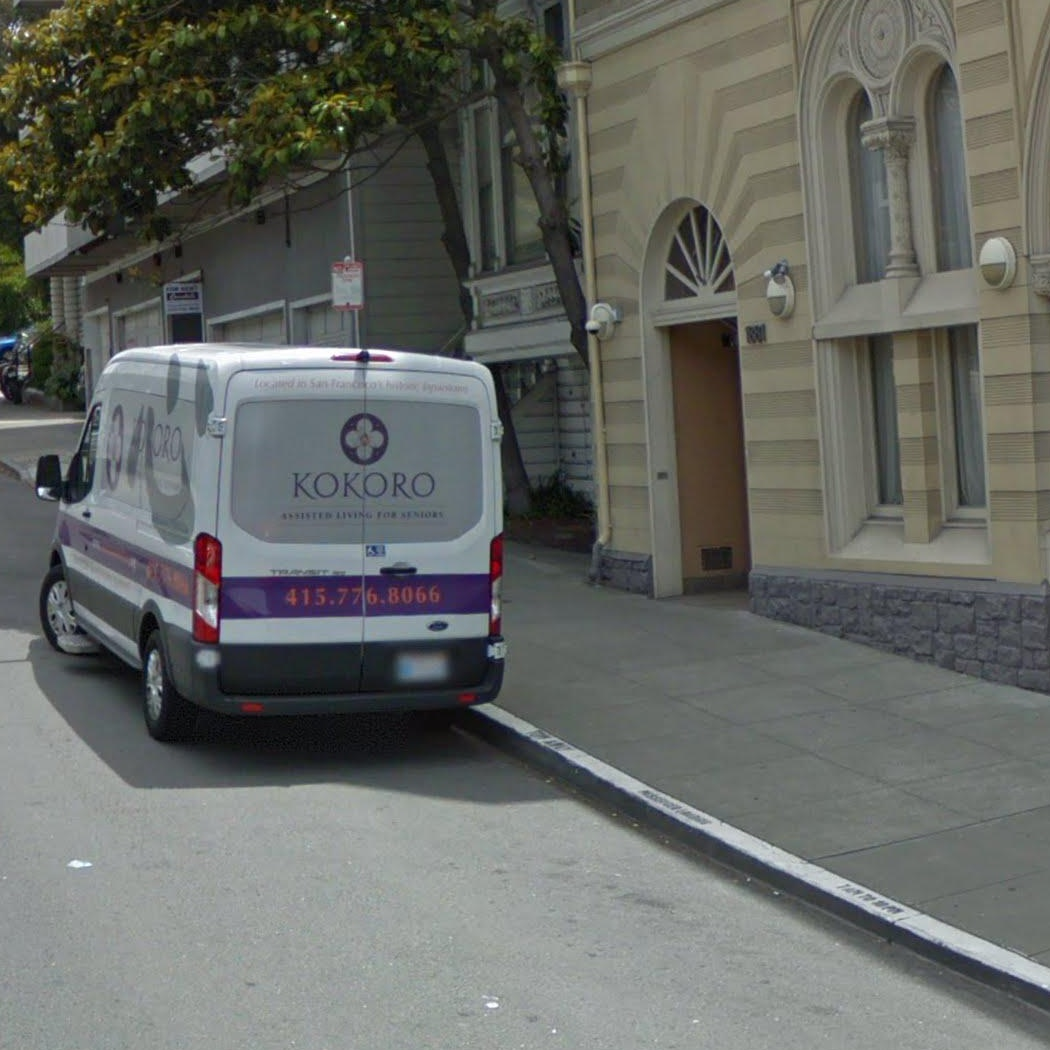No Parking: (328, 259, 365, 311)
